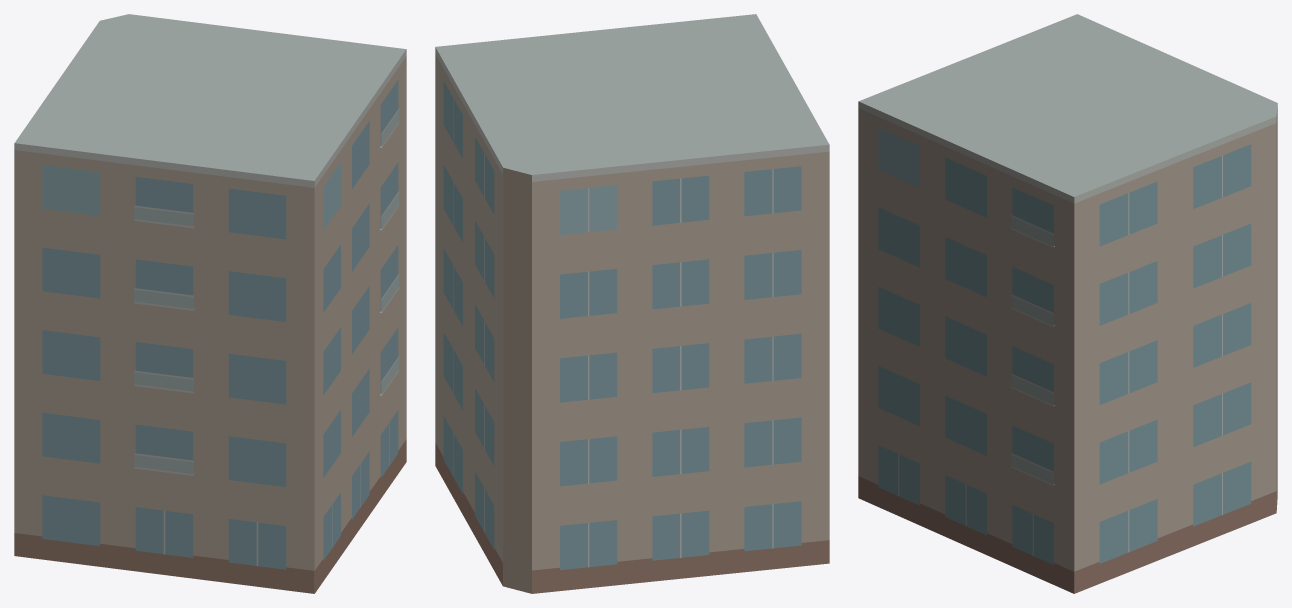
File: survey-upis-32606314.glb
3 views of the same model, side by side, from view 1: azimuth 30°, elevation 25°; view 2: azimuth 150°, elevation 25°; view 3: azimuth 270°, elevation 25° (orthographic). The views are drawn at different scales.
Parts seen in each view (by area): view 1: survey-upis-32606314.tmp; view 2: survey-upis-32606314.tmp; view 3: survey-upis-32606314.tmp.
Part boxes in pixels (<box>): survey-upis-32606314.tmp: <box>14,14,406,593</box>; survey-upis-32606314.tmp: <box>435,14,829,593</box>; survey-upis-32606314.tmp: <box>858,14,1277,593</box>.
Size of the model in its own units: 14.64 by 14.79 by 14.16.
